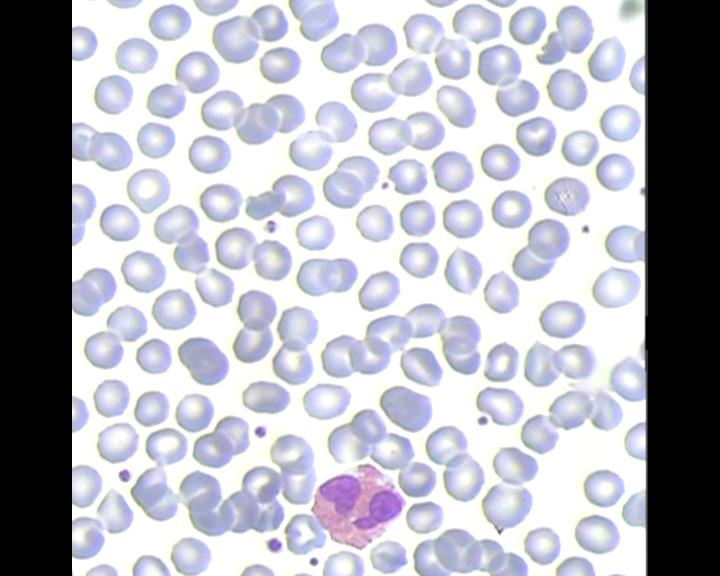eosi: (308, 458, 407, 549)
